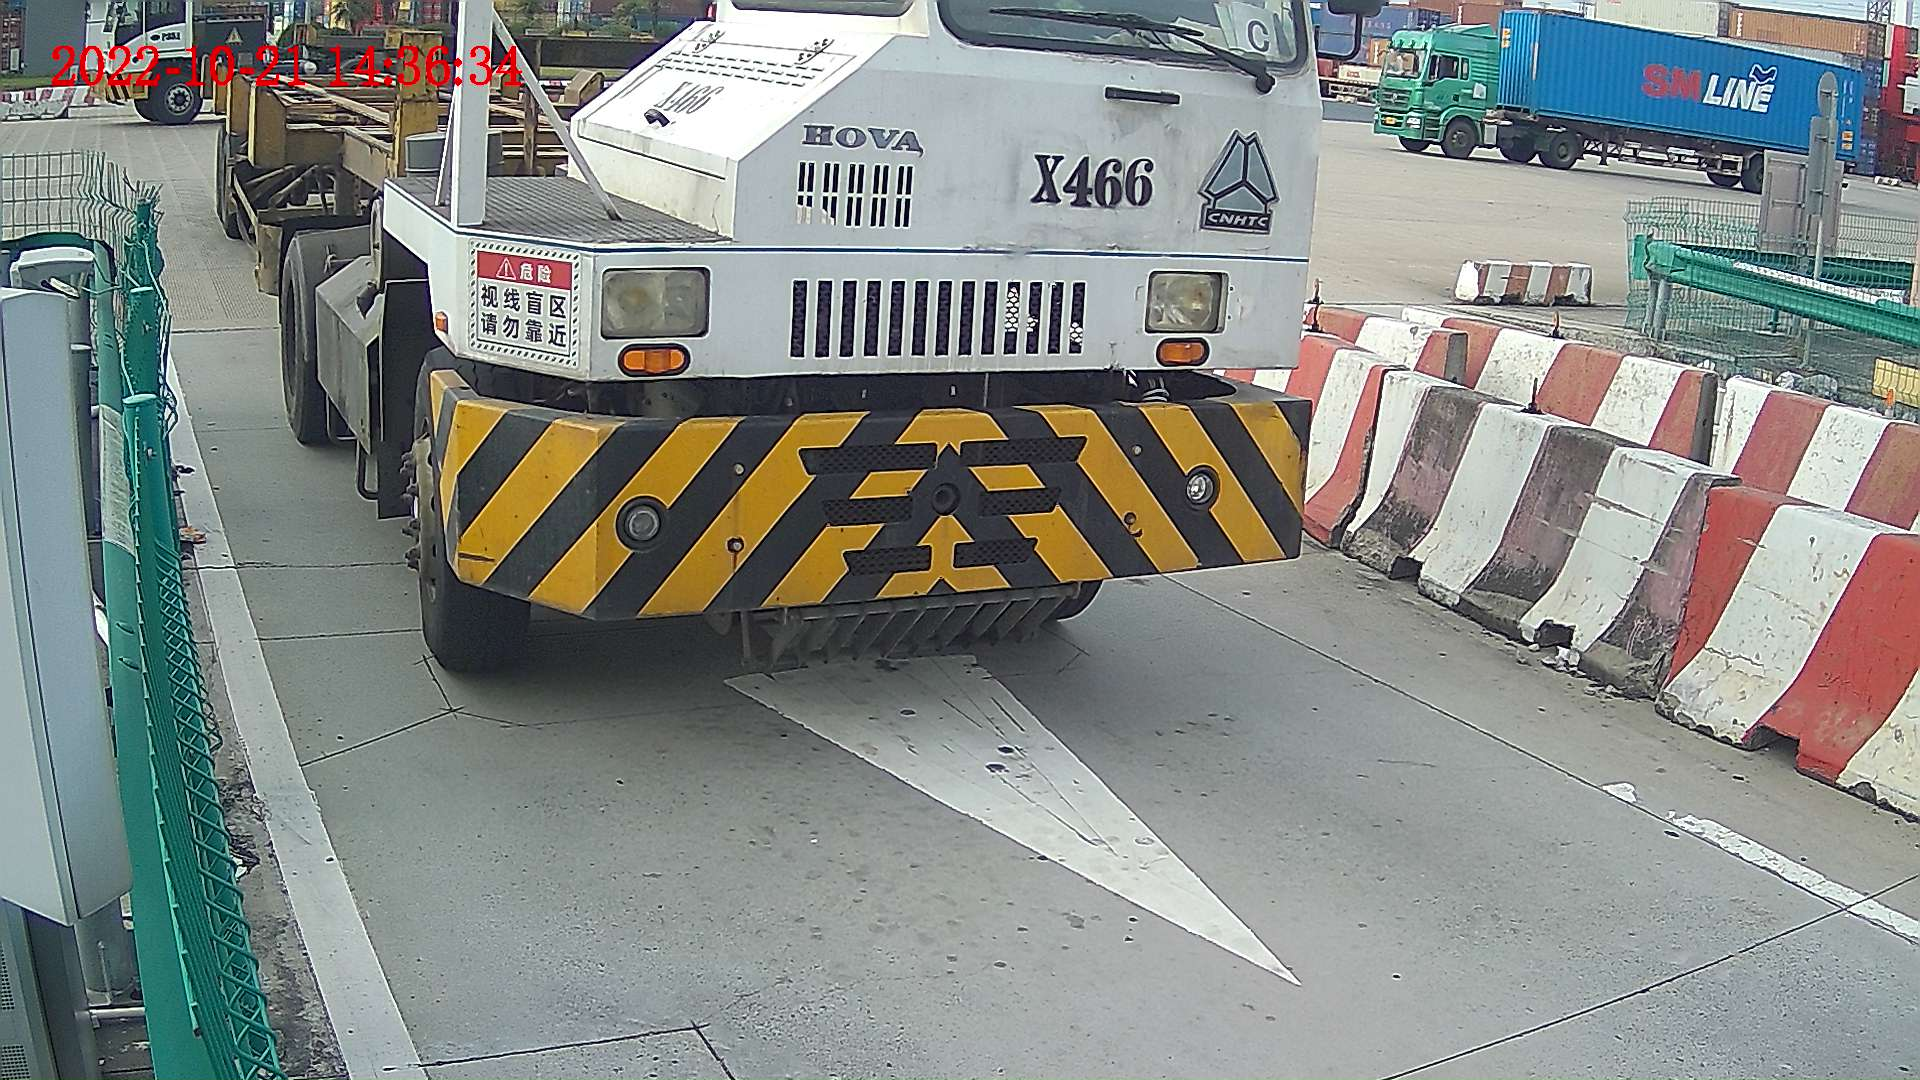head: (360, 1, 1331, 692)
